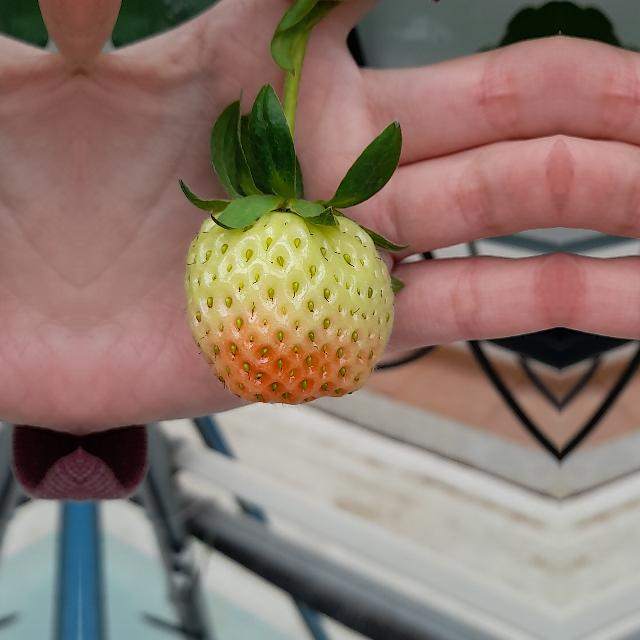Health_50: (184, 210, 394, 404)
